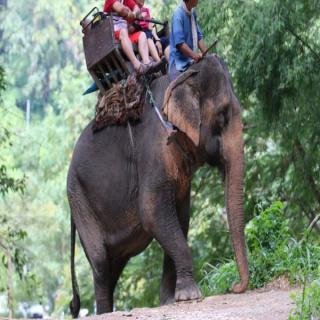Elephant: (60, 53, 254, 319)
